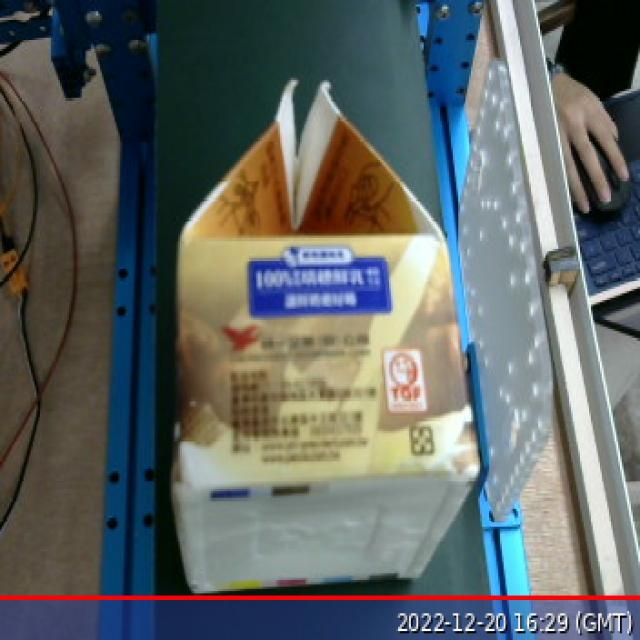non_white_jug: (158, 67, 489, 607)
